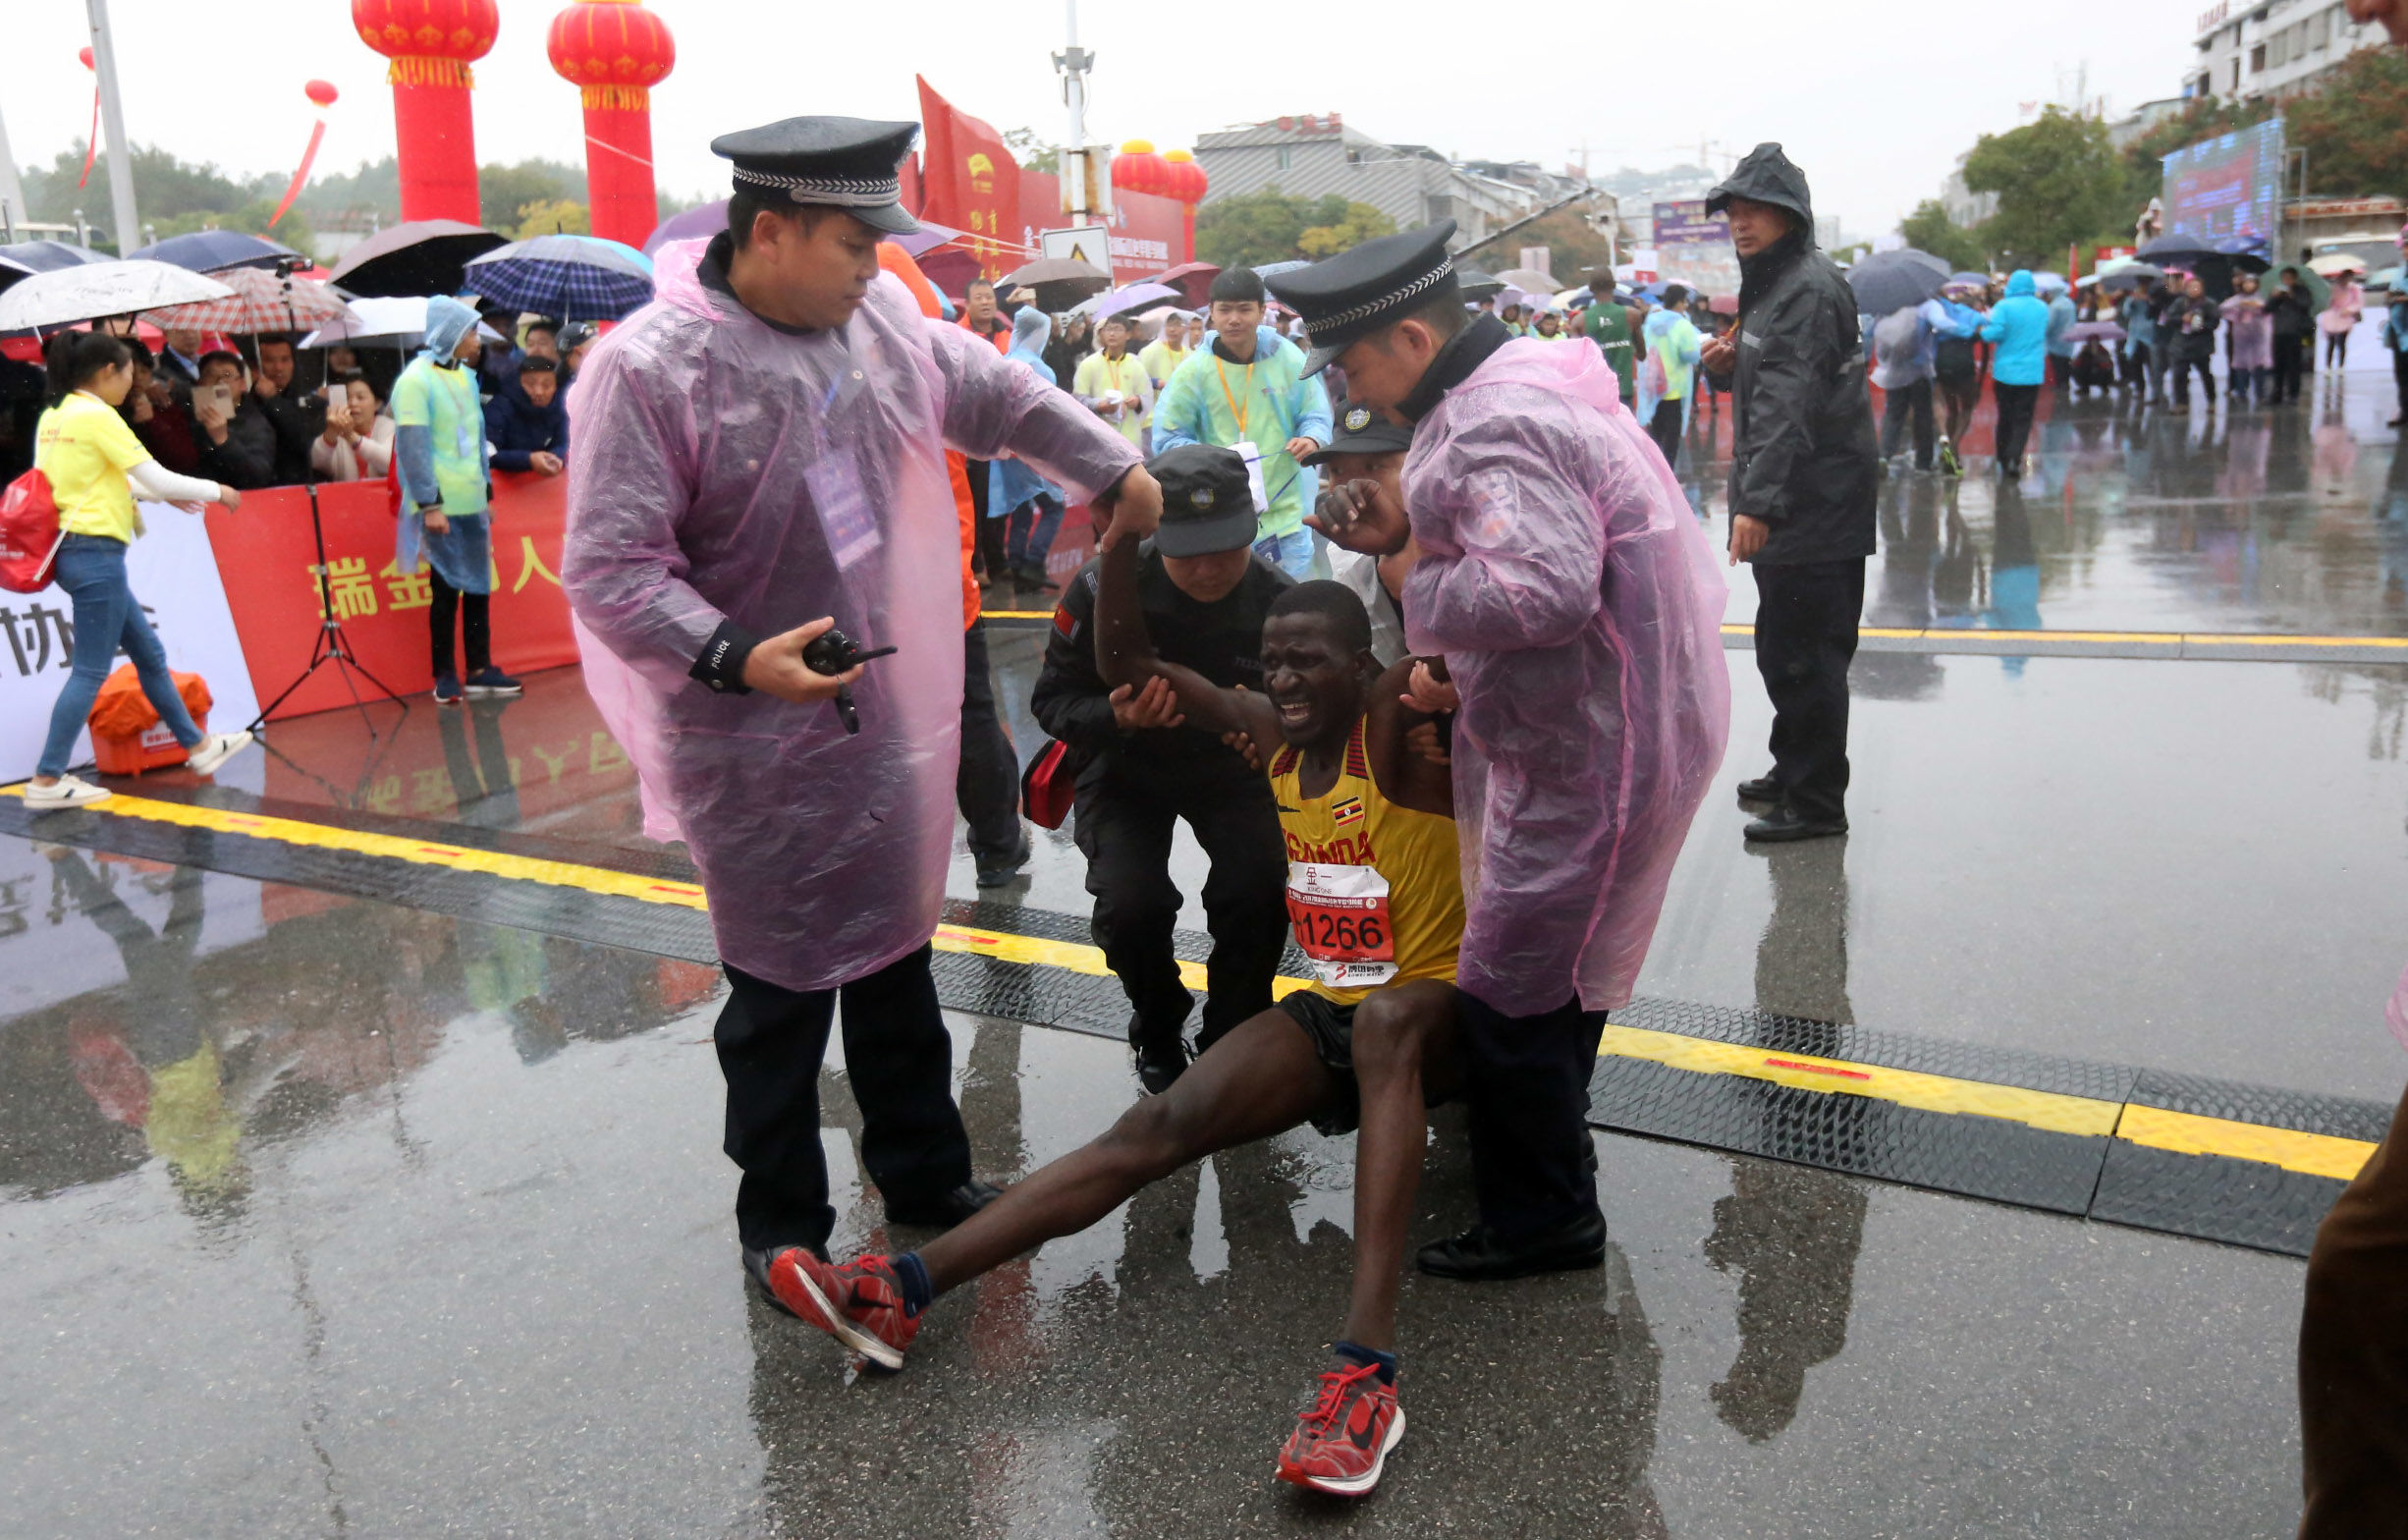10+: (9, 77, 2408, 1313)
down: (755, 467, 1446, 1510)
